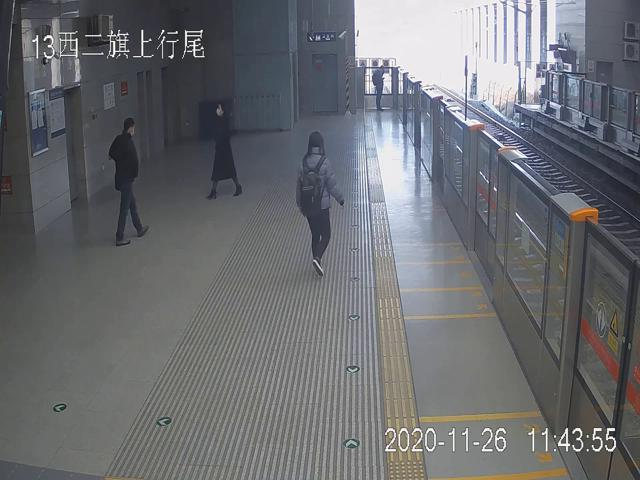person: (296, 130, 344, 276), (108, 116, 146, 244), (206, 100, 243, 200)
